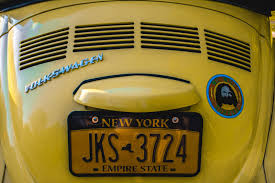number_plate: (56, 108, 213, 178)
